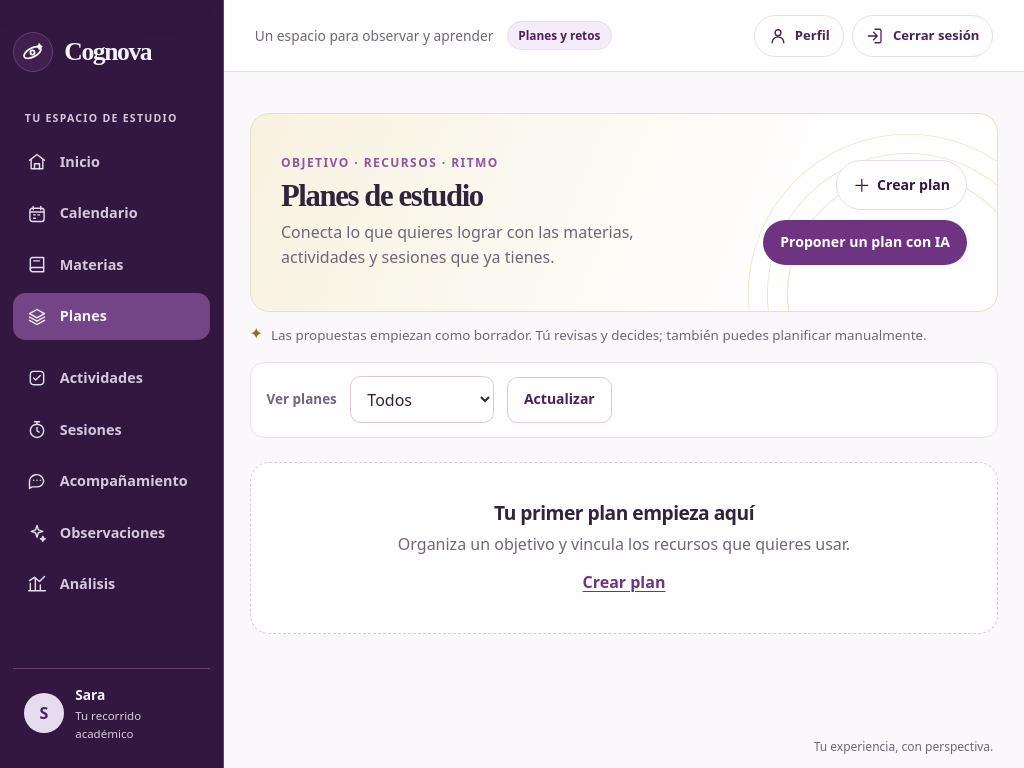
Test: study plans › keeps the plan list visible when AI generation fails
This screenshot has width=1024, height=768.
Click the button "Proponer un plan con IA" at (865, 242), box x1=763 y1=220 x2=967 y2=265
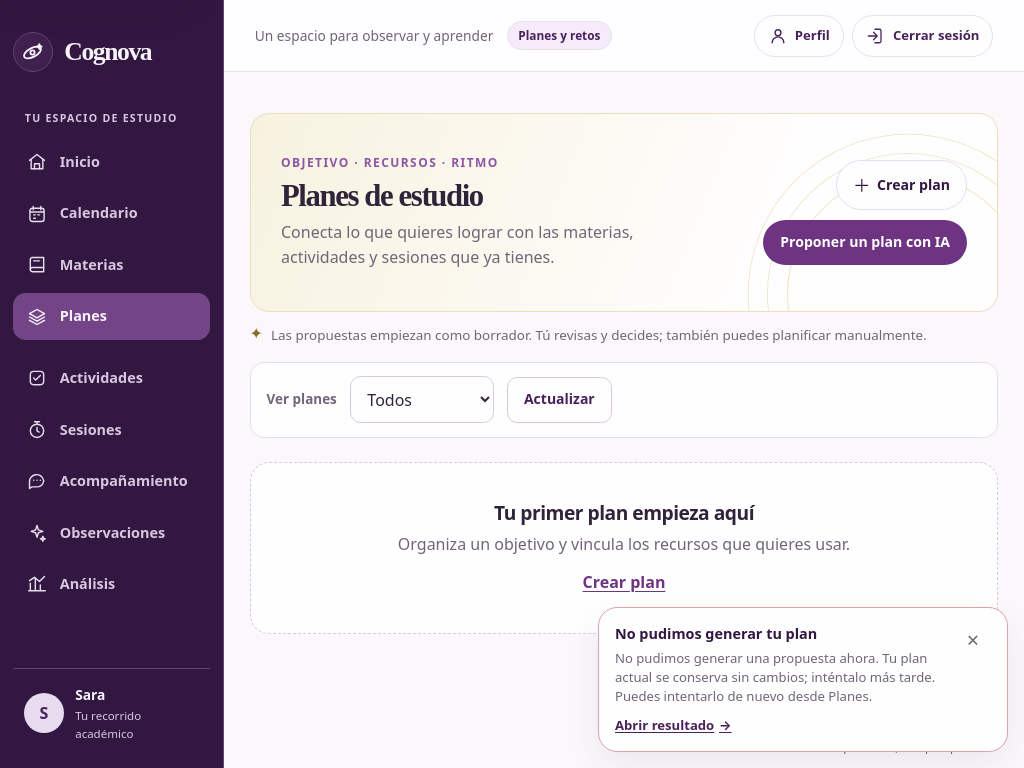
Expected: the message does not show "private detail", x1=598 y1=607 x2=1008 y2=752
Expected: the message shows "No pudimos generar una propuesta ahora", x1=615 y1=649 x2=935 y2=705
